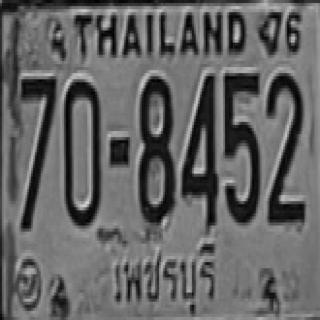N00: (64, 76, 101, 225)
N02: (265, 70, 303, 222), (266, 70, 302, 210)
N04: (180, 70, 217, 226)
N05: (224, 70, 259, 222)
N07: (18, 75, 57, 230)
N08: (138, 75, 173, 224)
P44: (110, 235, 220, 320)
